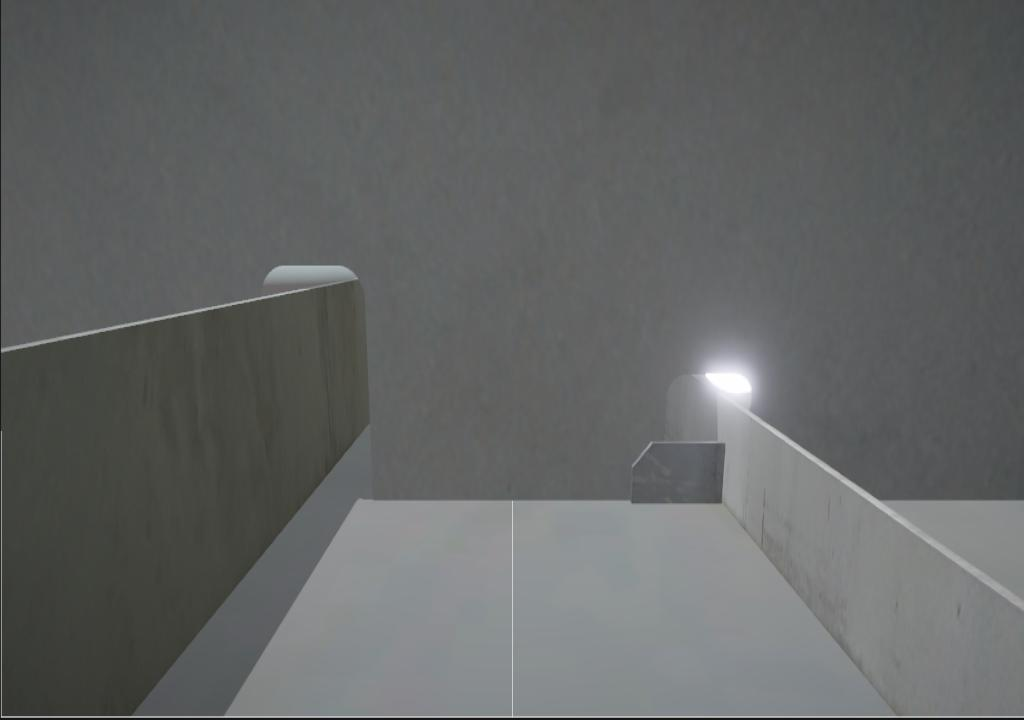fillet_yong_jeop_jang: (371, 496, 631, 504)
plate_CP03: (631, 441, 726, 504)
